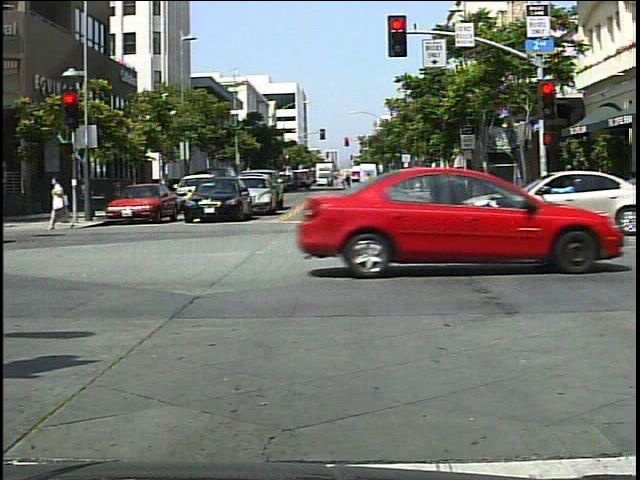person: (44, 170, 79, 234), (557, 162, 580, 213)
